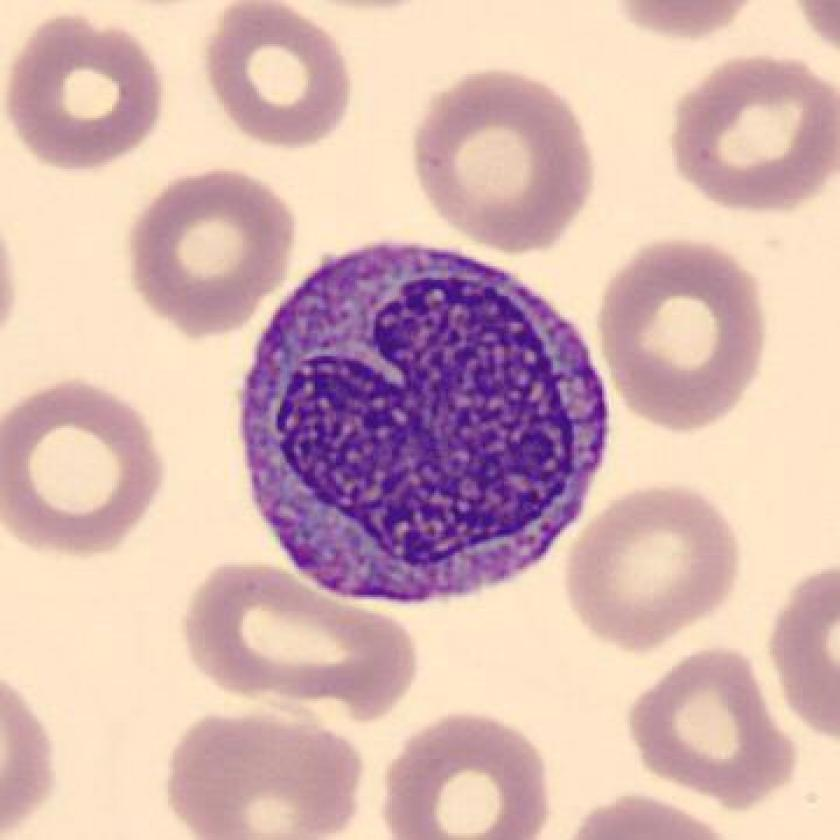monocyte: (223, 219, 629, 635)
